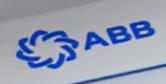ABB: (15, 27, 80, 69)
